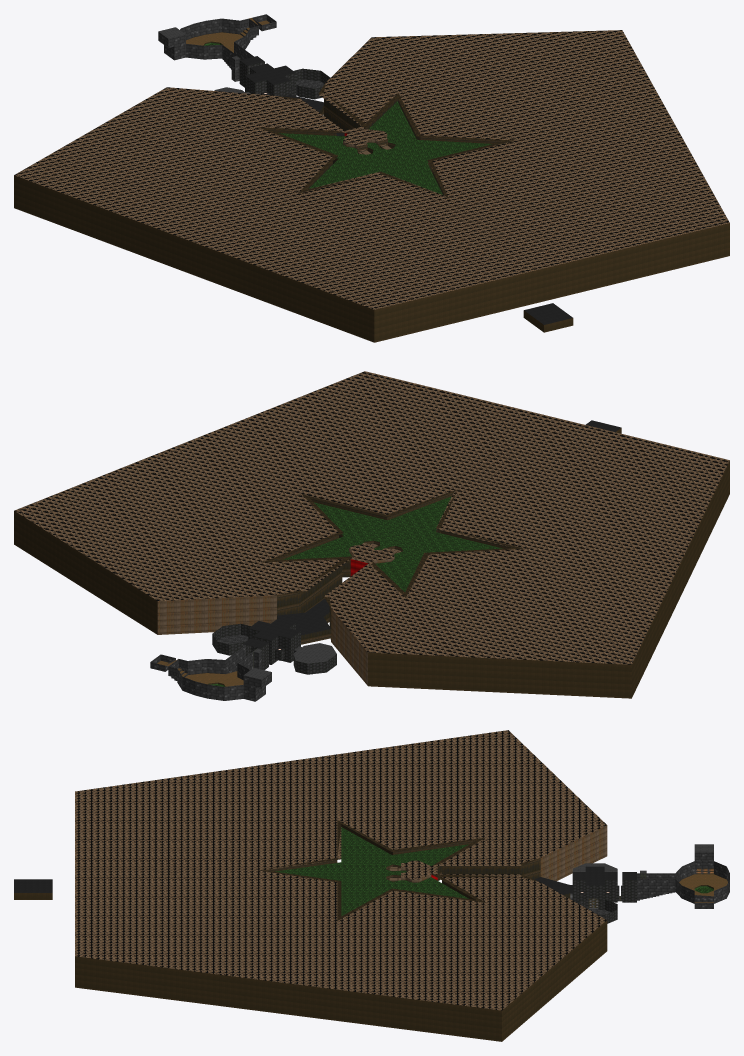
The model's file is E1M8 - Phobos Anomaly.glb.
3 views of the same model, one above another, from view 1: azimuth 30°, elevation 25°; view 2: azimuth 150°, elevation 25°; view 3: azimuth 270°, elevation 25° (orthographic). The views are drawn at different scales.
Parts seen in each view (by area): view 1: E1M8; view 2: E1M8; view 3: E1M8.
Boxes of the visible parts, box(x1,y1,x2,y2) form: E1M8: box(14, 14, 729, 342); E1M8: box(14, 371, 729, 701); E1M8: box(14, 730, 729, 1041).
Bounding box in the file's own units: 6616 × 376 × 7136.
40 materials, 40 textured.
